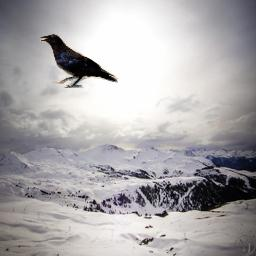Crow: (40, 34, 118, 88)
